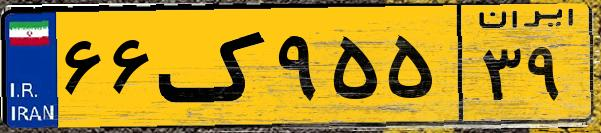3: (475, 38, 525, 113)
5: (385, 28, 445, 110), (330, 28, 385, 110)
6: (57, 26, 110, 100), (110, 28, 158, 98)
9: (270, 28, 330, 110), (525, 38, 570, 115)
ک: (158, 12, 270, 120)
